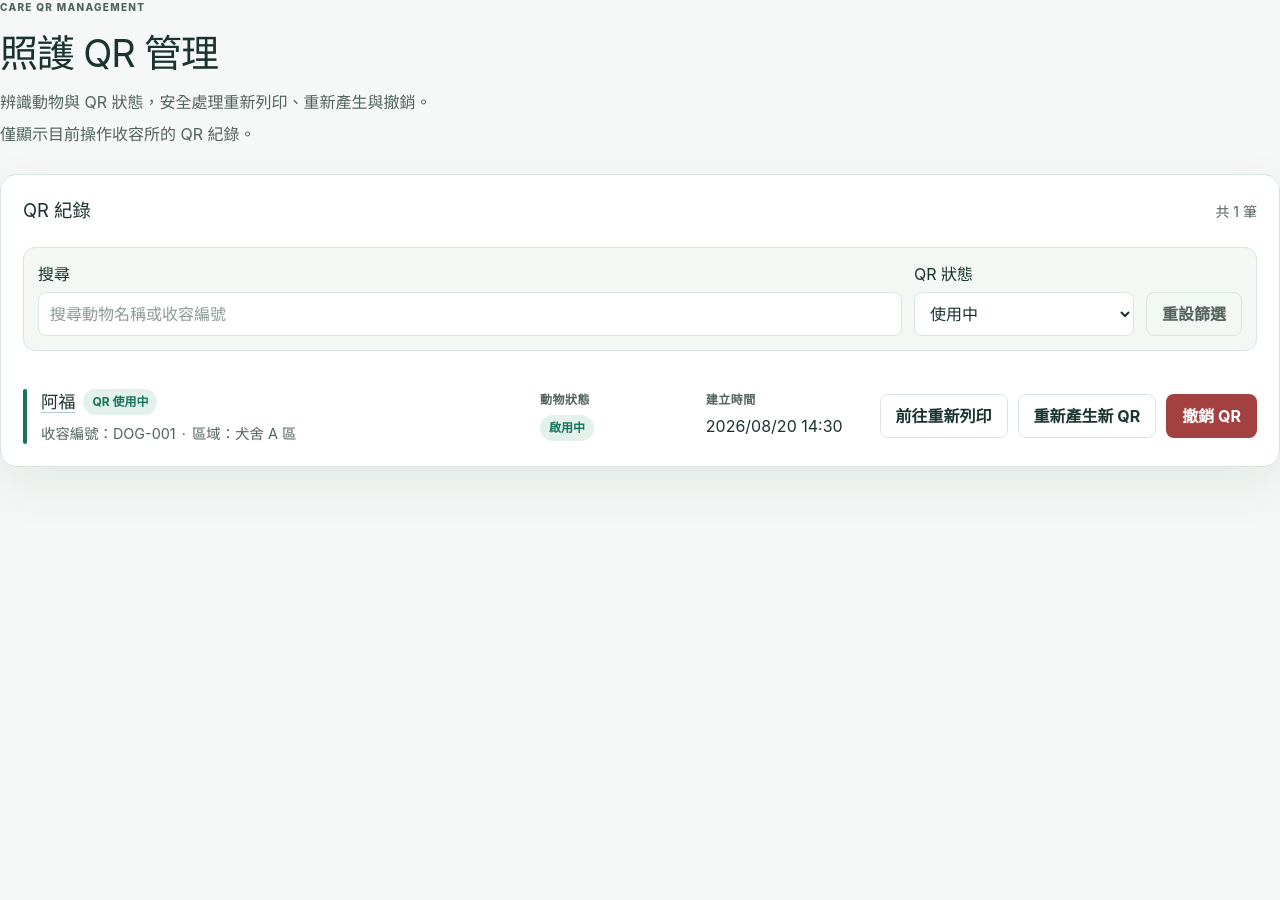
Test: animal-aware care QR management list › shows filtered empty on page one when revoke removes the final active QR
The image size is (1280, 900).
Select "使用中" in the dropdown labelled "QR 狀態" at (1024,314), box 914,292 -> 1134,336
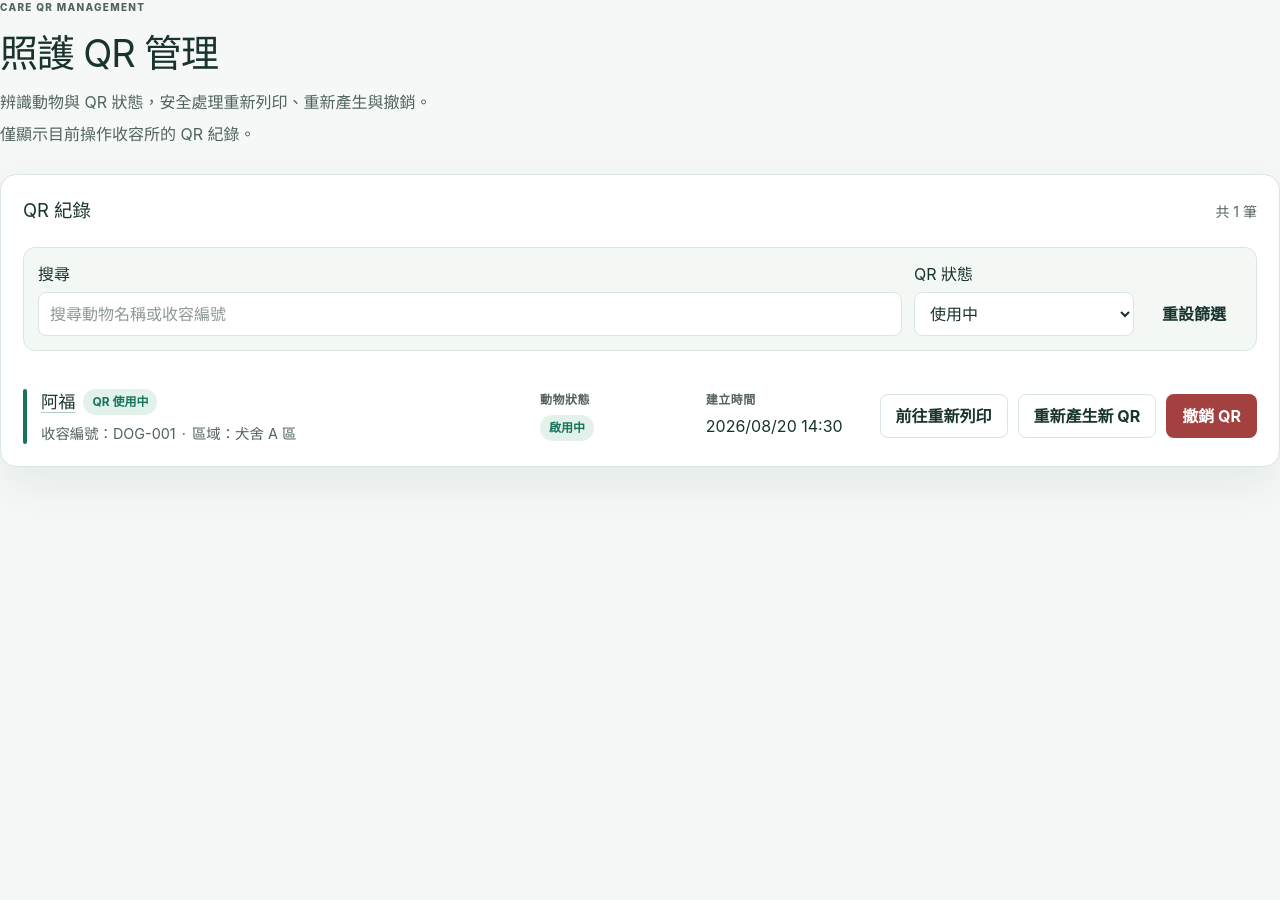
Click the button "撤銷 QR" at (1212,416), box 1166,394 -> 1257,438
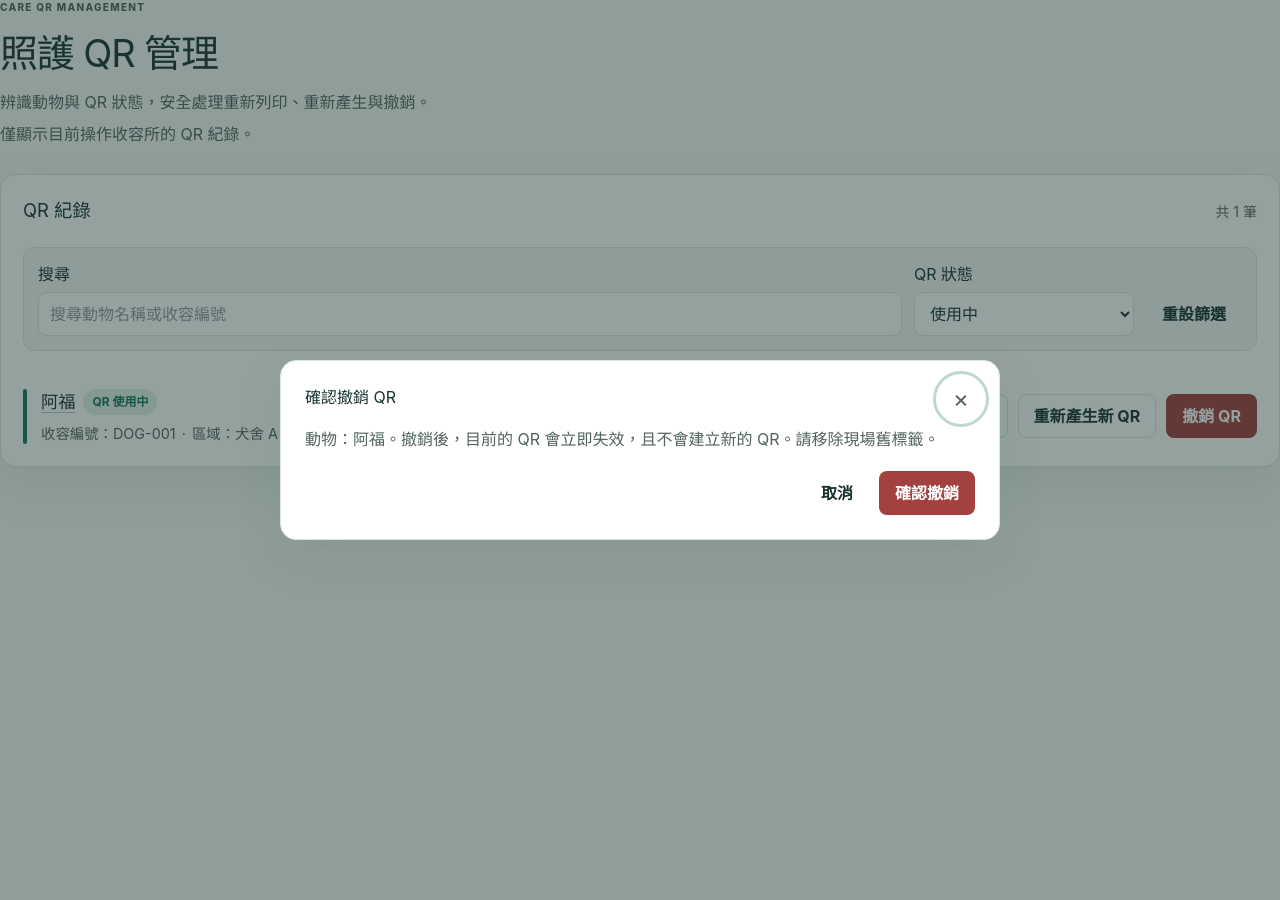
Click the button "確認撤銷" at (927,493), box 879,471 -> 975,515
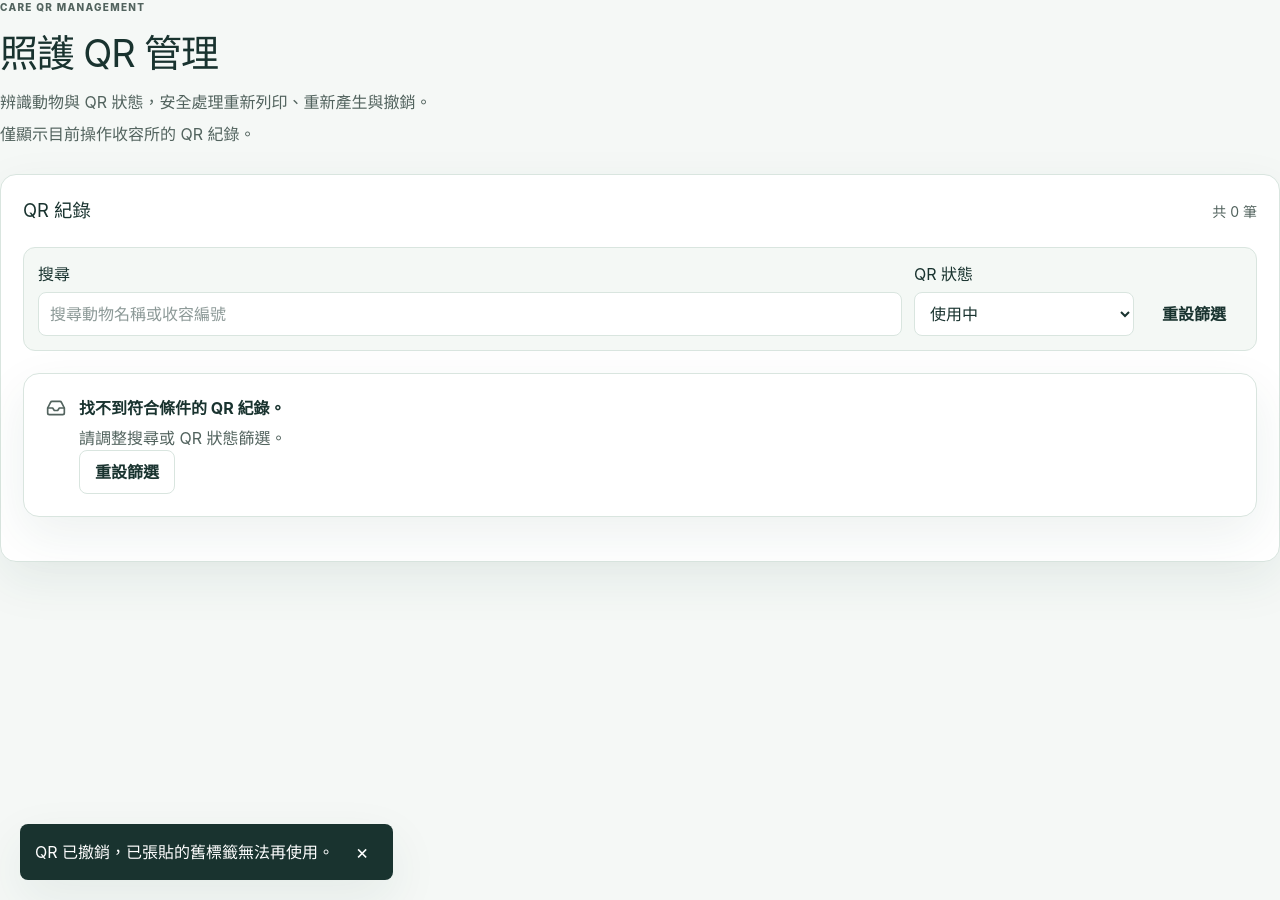
Expected: the text "找不到符合條件的 QR 紀錄。" is shown, 79,398 -> 286,418
